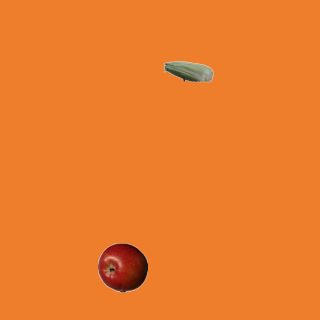Apple Braeburn: (97, 242, 147, 292)
Corn Husk: (163, 46, 213, 96)
